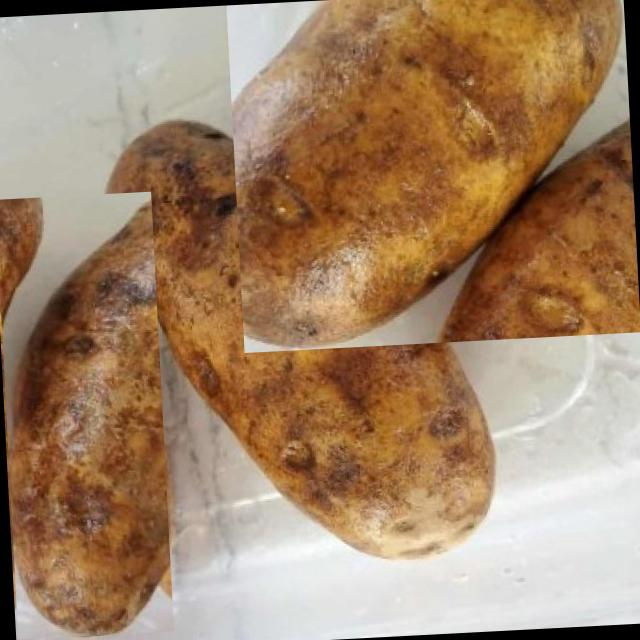Damaged potato: (97, 103, 501, 582), (226, 0, 640, 352), (0, 190, 174, 638)
